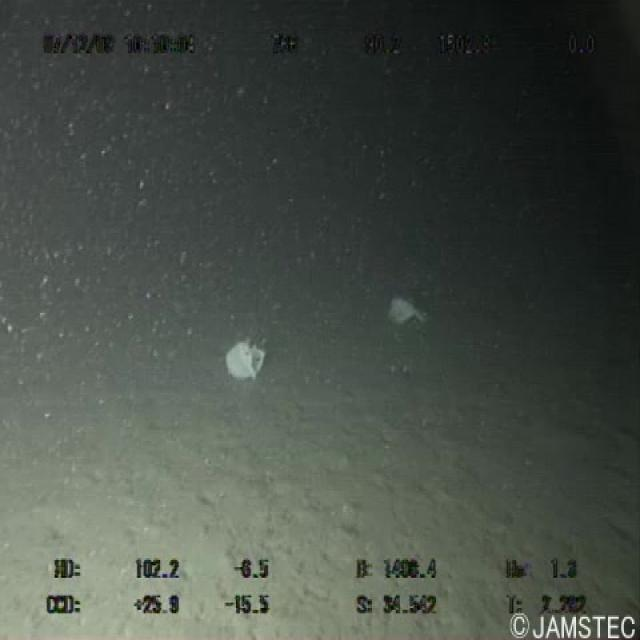plastic: (217, 330, 275, 386), (385, 290, 432, 330)
